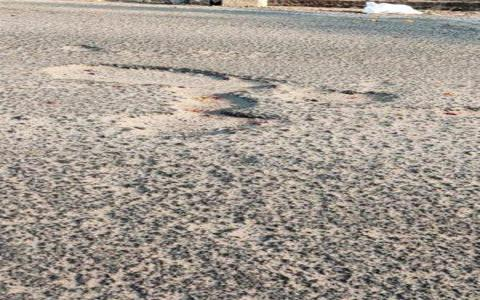patchy roads: (36, 17, 371, 264)
